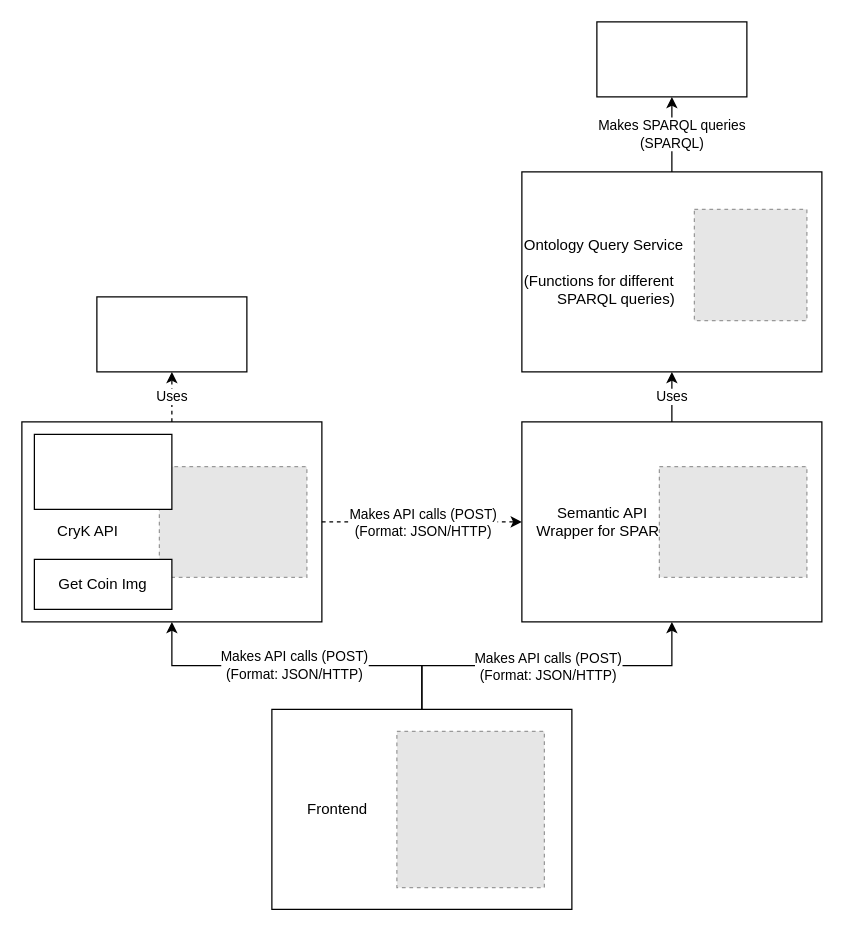
The diagram is 844 pixels wide and 931 high, and some of its shapes have lost their labels. Grey dashed boxes stand in for pictures. Each missing label, with the centre of its shape:
"DOACC Images" belongs at [171,334].
"DOACC Ontology (OWL File)" belongs at [671,59].
"Generate Dataset for Visualization based on SPARL query result" belongs at [102,471].
